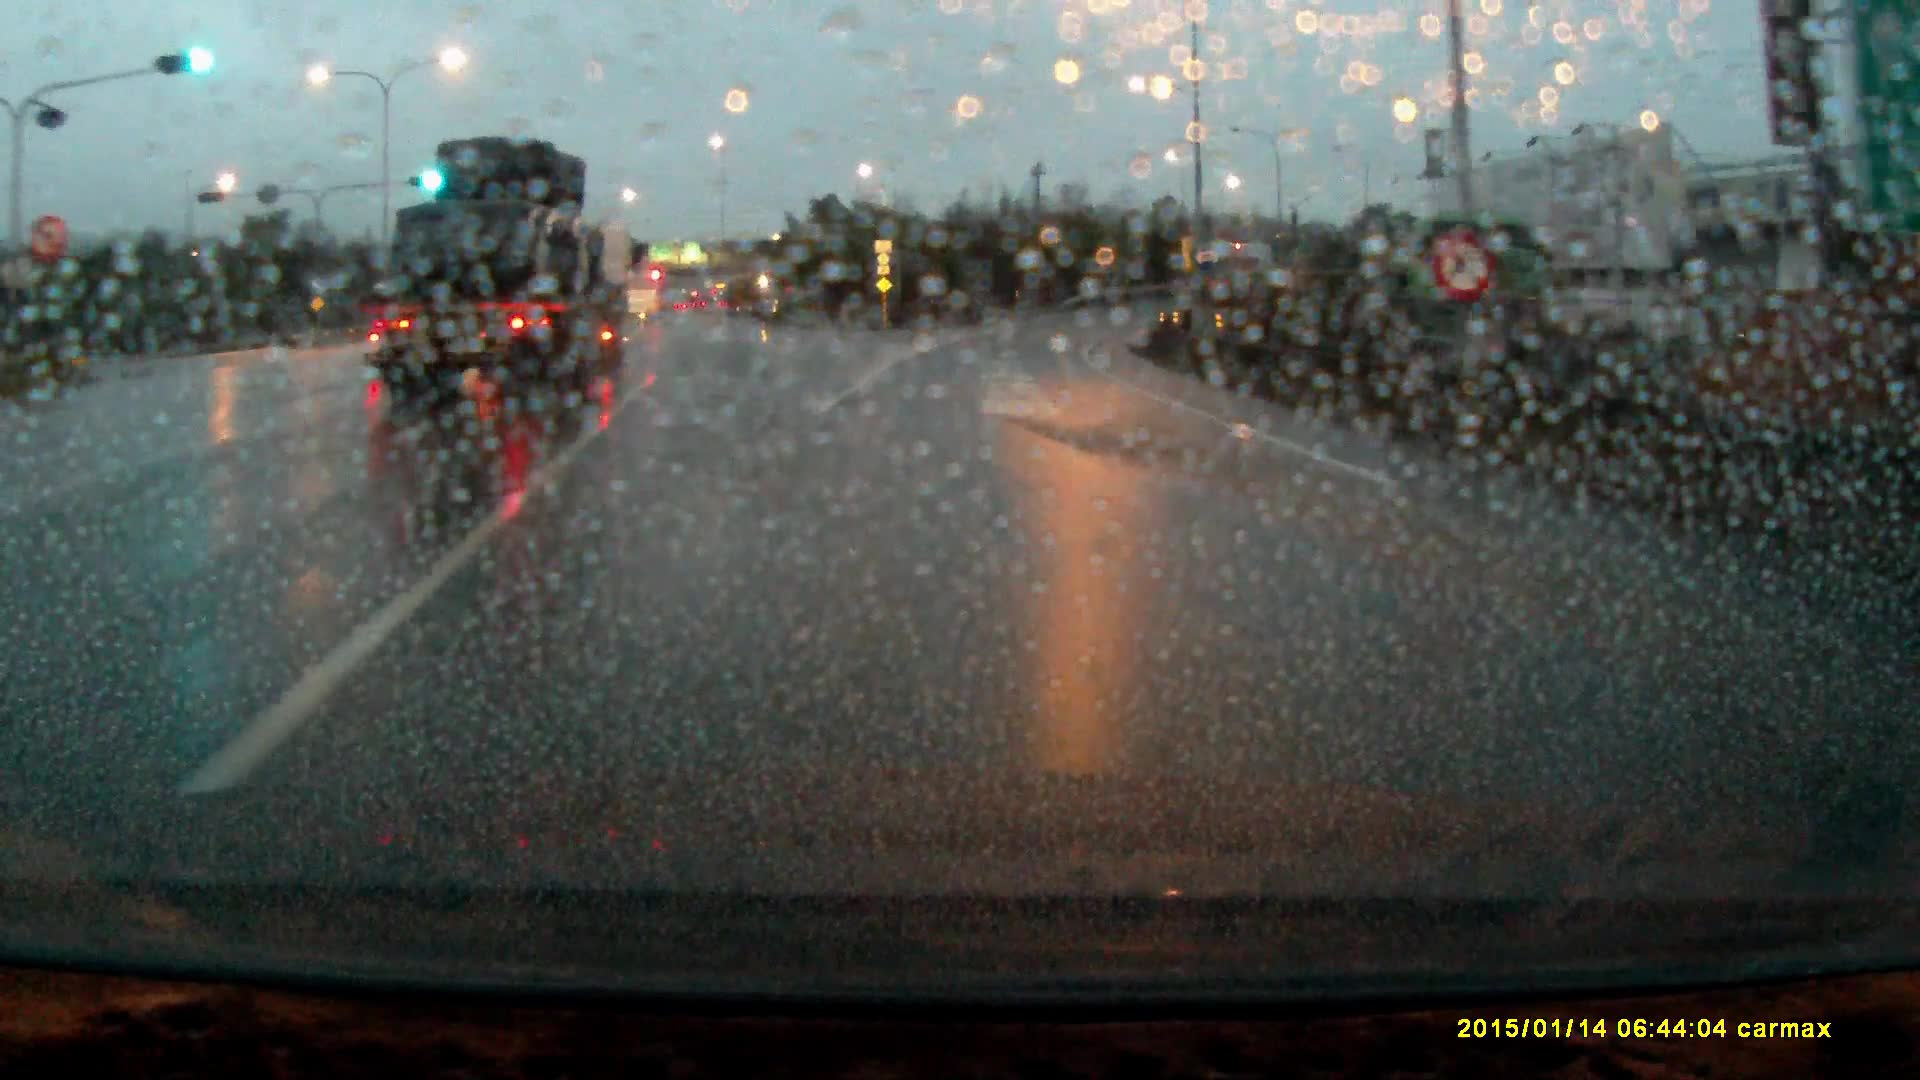rider: (363, 286, 407, 377)
vehicle: (374, 134, 635, 415), (628, 266, 665, 323)
